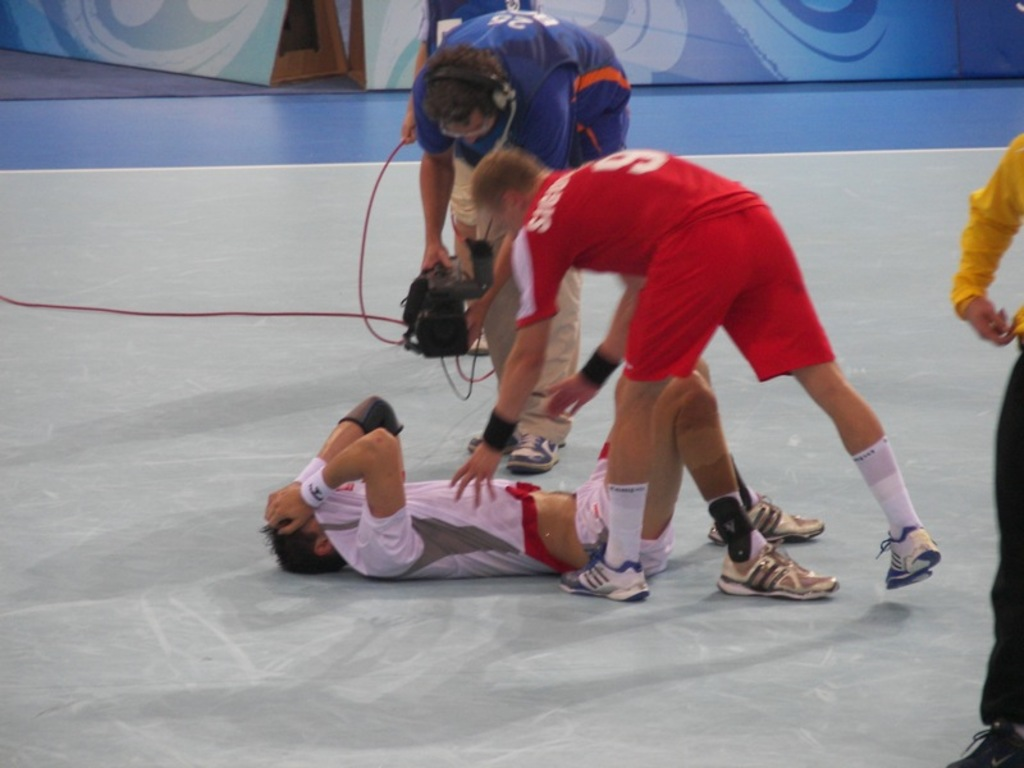Person: (387, 0, 552, 134)
